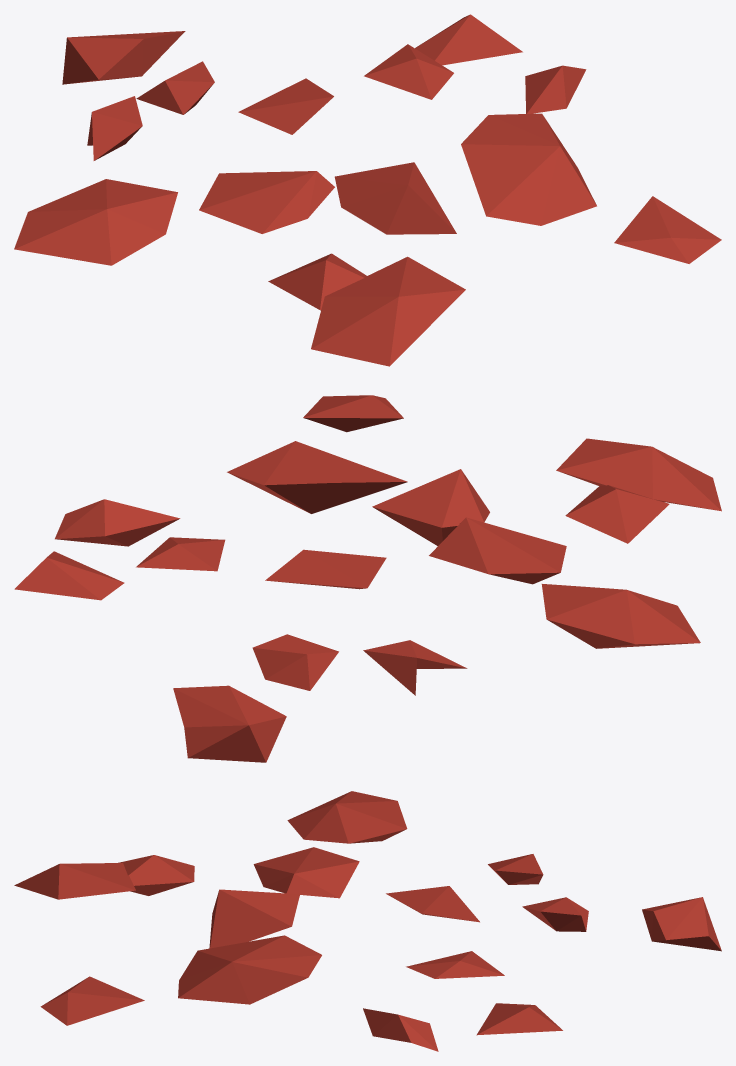
Rendered from SFV_Flowers_004.fbx.
The picture shows the model from 3 angles, top to bottom: view 1: azimuth 30°, elevation 25°; view 2: azimuth 150°, elevation 25°; view 3: azimuth 270°, elevation 25°; orthographic projection. The views are drawn at different scales.
Parts seen in each view (by area): view 1: SFV_Flowers_004; view 2: SFV_Flowers_004; view 3: SFV_Flowers_004.
Boxes of the visible parts, bbox=[...] form: SFV_Flowers_004: bbox=[14, 14, 721, 366]; SFV_Flowers_004: bbox=[14, 395, 721, 762]; SFV_Flowers_004: bbox=[14, 791, 721, 1051].
Size of the model in its own units: 58.64 by 7.36 by 68.
